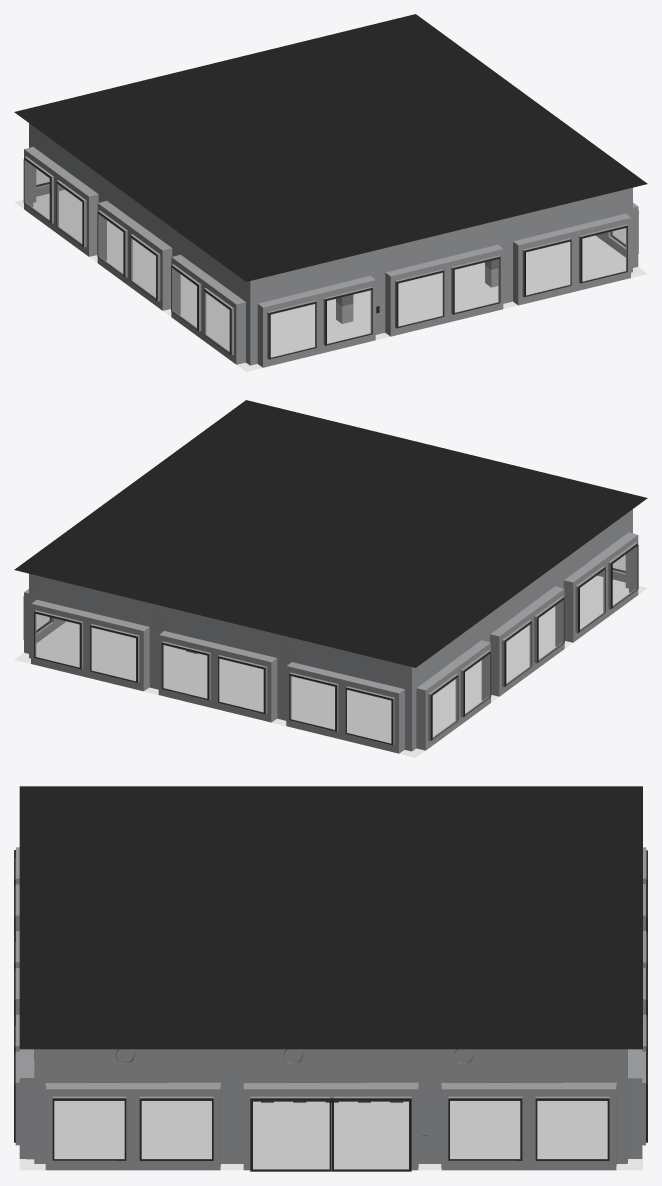
File: dc with int.glb
3 views of the same model, one above another, from view 1: azimuth 30°, elevation 25°; view 2: azimuth 150°, elevation 25°; view 3: azimuth 270°, elevation 25° (orthographic). The views are drawn at different scales.
Visible parts, largest first — view 1: Plane.061, Cube.001, Cube.004, Plane.063, Cube.002; view 2: Plane.061, Cube.003, Cube.004, Plane.063, Cube.002; view 3: Plane.061, Cube.002, Plane.063, Cube.005, Cube.001, Cube.003.
Boxes of the visible parts, bbox=[...] form: Plane.061: bbox=[14, 14, 647, 281]; Cube.001: bbox=[250, 187, 632, 367]; Cube.004: bbox=[23, 123, 250, 365]; Plane.063: bbox=[14, 190, 647, 371]; Cube.002: bbox=[596, 203, 638, 267]; Plane.061: bbox=[14, 400, 647, 667]; Cube.003: bbox=[29, 573, 411, 753]; Cube.004: bbox=[412, 509, 638, 751]; Plane.063: bbox=[14, 575, 647, 757]; Cube.002: bbox=[23, 589, 65, 653]; Plane.061: bbox=[19, 786, 642, 1049]; Cube.002: bbox=[34, 1049, 627, 1171]; Plane.063: bbox=[19, 1101, 642, 1170]; Cube.005: bbox=[250, 1098, 411, 1171]; Cube.001: bbox=[14, 847, 34, 1159]; Cube.003: bbox=[627, 847, 647, 1162].
Bounding box in the file's own units: 247 × 53.47 × 247.
11 materials, 4 textured.
